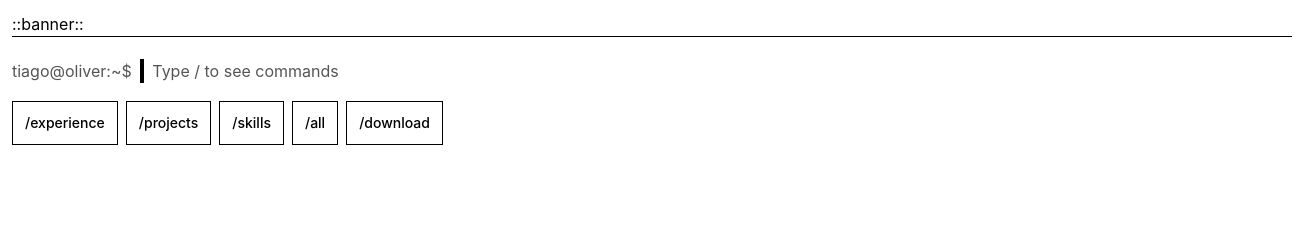
Test case: Terminal › Given an unknown command, should explain how to see the commands
Type "sudo" into the dropdown named "Command" at {"x": 716, "y": 71}, box [140,49,1292,93]
Then press Enter
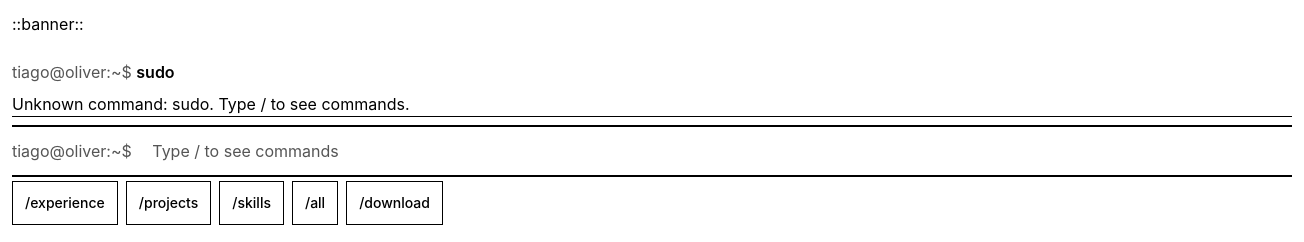
Now the text "Unknown command: sudo. Type / to see commands." is shown, box [12,94,410,114]
